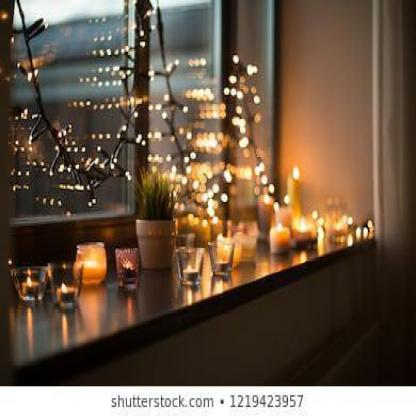fire: (56, 275, 70, 297), (287, 162, 302, 180), (23, 274, 37, 290), (184, 261, 197, 278), (273, 216, 283, 230)
other: (140, 19, 278, 216), (9, 0, 128, 215)
